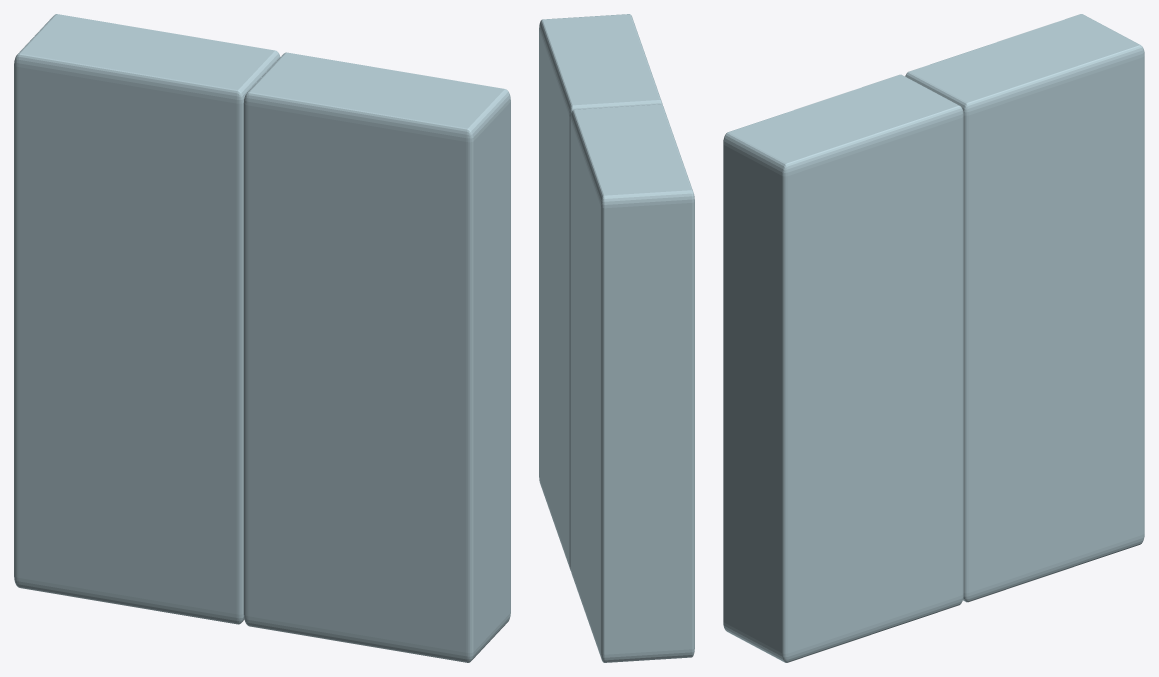
Rendered from WallWallSmall.fbx.
3 renders of one model, left to right at view 1: azimuth 30°, elevation 25°; view 2: azimuth 150°, elevation 25°; view 3: azimuth 270°, elevation 25°, orthographic. The views are drawn at different scales.
Visible parts, largest first — view 1: Cube.006; view 2: Cube.006; view 3: Cube.006.
Part boxes in pixels (x1=…): Cube.006: x1=14, y1=14, x2=510, y2=662; Cube.006: x1=539, y1=14, x2=694, y2=662; Cube.006: x1=723, y1=14, x2=1144, y2=662.
Size of the model in its own units: 314 by 477 by 365.
